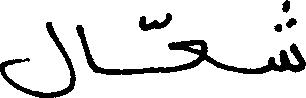X: (0, 17, 75, 97), (269, 0, 305, 77), (168, 8, 207, 77), (77, 20, 95, 77)
